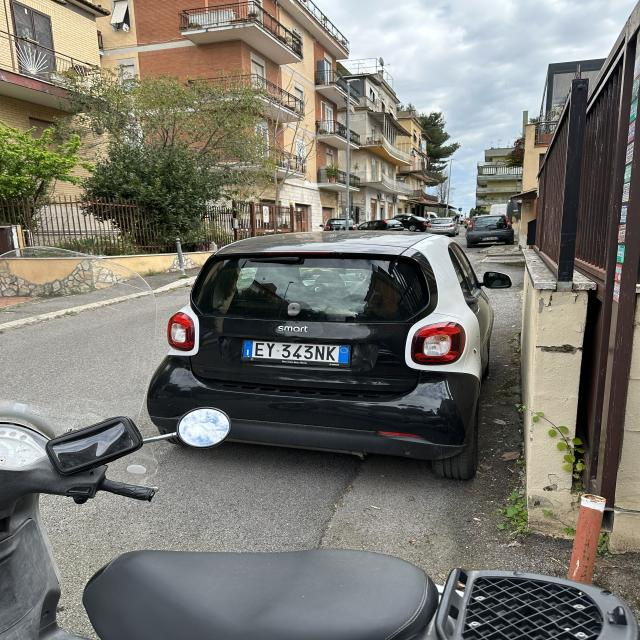number_plate: (242, 340, 350, 366)
